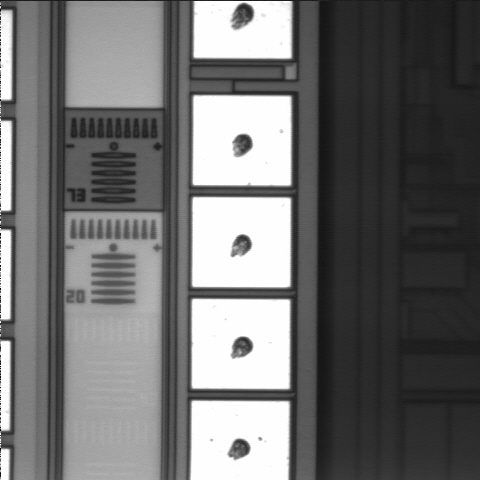pad: (193, 95, 291, 186), (192, 197, 291, 287), (192, 299, 290, 389)
